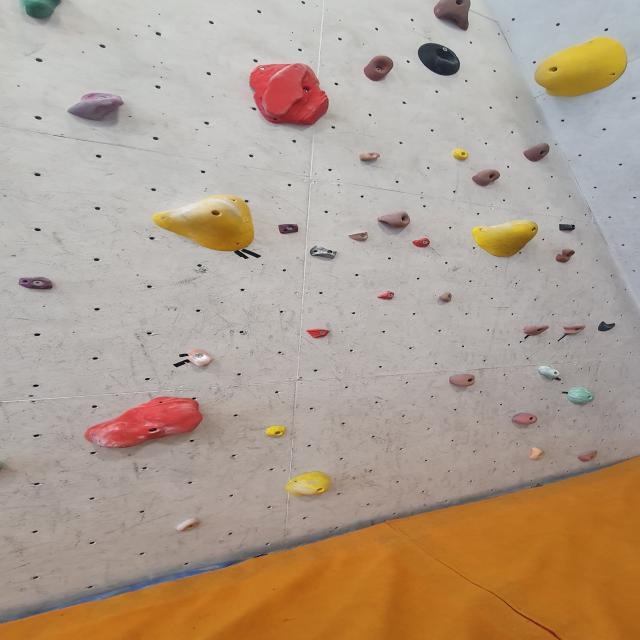Crimp: (15, 274, 59, 292), (300, 326, 338, 340), (174, 516, 205, 532), (372, 289, 400, 302), (265, 424, 289, 438), (347, 230, 371, 244), (409, 236, 435, 248), (276, 222, 300, 234), (452, 148, 471, 162), (438, 291, 455, 303)
Jug: (432, 0, 474, 32), (362, 54, 395, 83), (467, 167, 508, 187), (376, 209, 414, 230), (180, 347, 218, 368), (522, 139, 552, 163), (507, 410, 542, 427), (448, 374, 482, 390), (520, 322, 552, 337), (562, 322, 588, 336)
Pinch: (65, 92, 128, 124), (416, 40, 464, 77), (307, 244, 344, 262), (356, 151, 386, 163), (556, 222, 578, 232)
Sloper: (148, 192, 262, 255), (80, 398, 210, 452), (530, 35, 630, 103), (248, 62, 334, 127), (467, 216, 541, 258), (284, 469, 334, 498), (566, 386, 596, 405)
